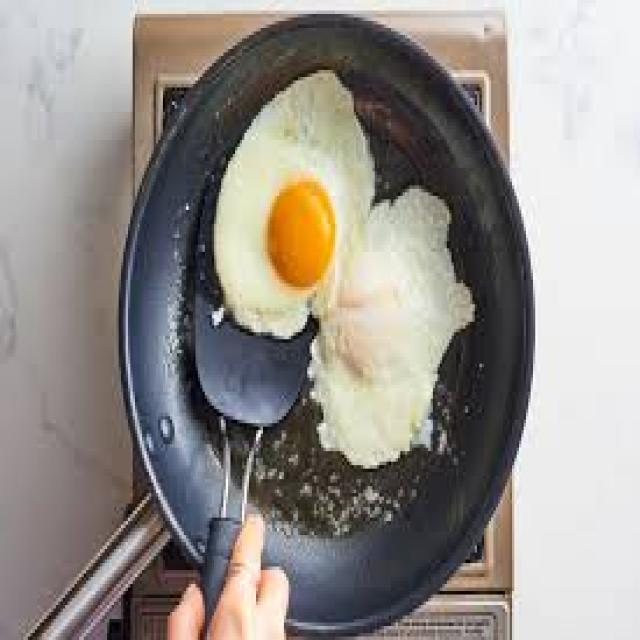Egg: (311, 188, 474, 465), (215, 73, 371, 337)
